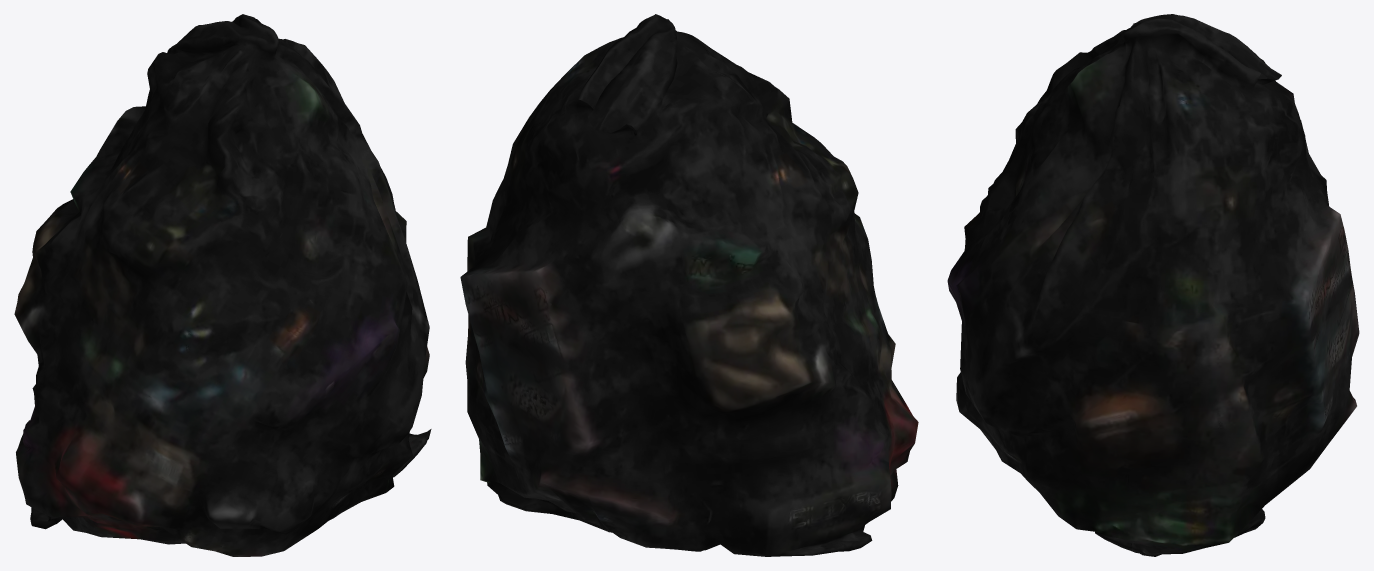
File: trashbag_1k.glb
3 renders of one model, left to right at view 1: azimuth 30°, elevation 25°; view 2: azimuth 150°, elevation 25°; view 3: azimuth 270°, elevation 25°, orthographic. The views are drawn at different scales.
Parts seen in each view (by area): view 1: trashbag; view 2: trashbag; view 3: trashbag.
Part boxes in pixels (box(x1,y1,x2,y2)): trashbag: box(14, 14, 431, 556); trashbag: box(460, 14, 918, 556); trashbag: box(947, 14, 1359, 556).
Size of the model in its own units: 0.5281 by 0.575 by 0.4629.
Materials: 1 (1 with a texture image).
